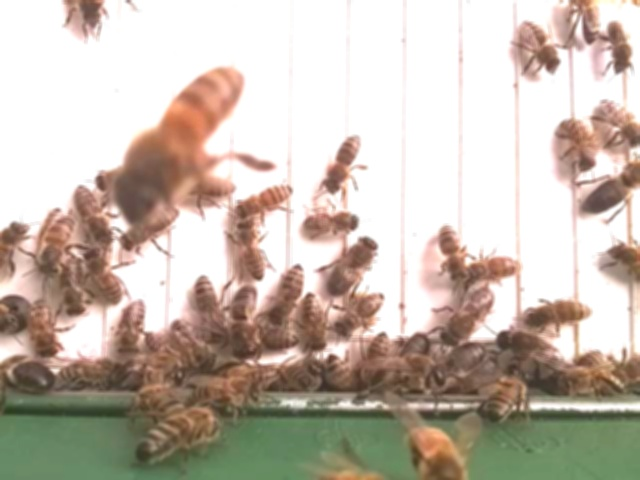Drone: (325, 231, 382, 297), (438, 283, 498, 344), (429, 336, 489, 391), (497, 325, 566, 371), (584, 160, 640, 216), (226, 279, 260, 362), (0, 356, 61, 395)
Worker: (332, 287, 387, 337), (74, 182, 114, 247), (167, 316, 215, 370), (515, 19, 560, 75), (325, 131, 363, 196), (38, 214, 76, 278), (524, 295, 597, 328), (230, 219, 267, 283), (560, 114, 601, 171), (84, 248, 126, 303), (270, 260, 306, 323), (29, 293, 62, 361), (598, 95, 640, 148), (109, 295, 146, 355), (194, 272, 227, 339), (437, 220, 470, 283), (236, 181, 297, 215), (459, 251, 524, 281), (58, 255, 88, 319), (297, 292, 327, 353), (605, 17, 635, 76), (302, 207, 362, 236)
